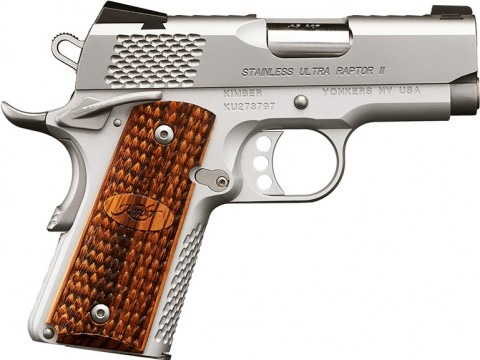gun: (0, 2, 480, 360)
